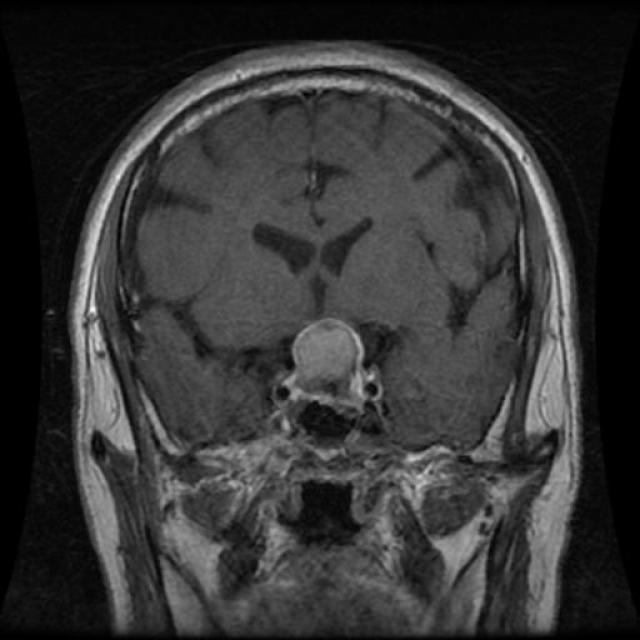Pituitary: (290, 316, 365, 415)
